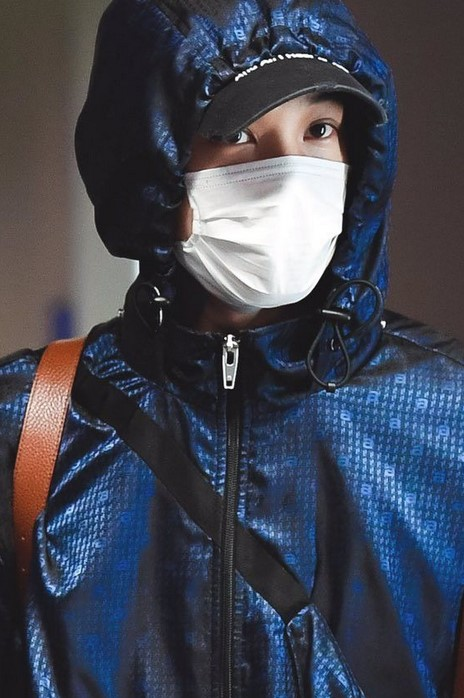face_with_mask: (76, 6, 394, 317)
